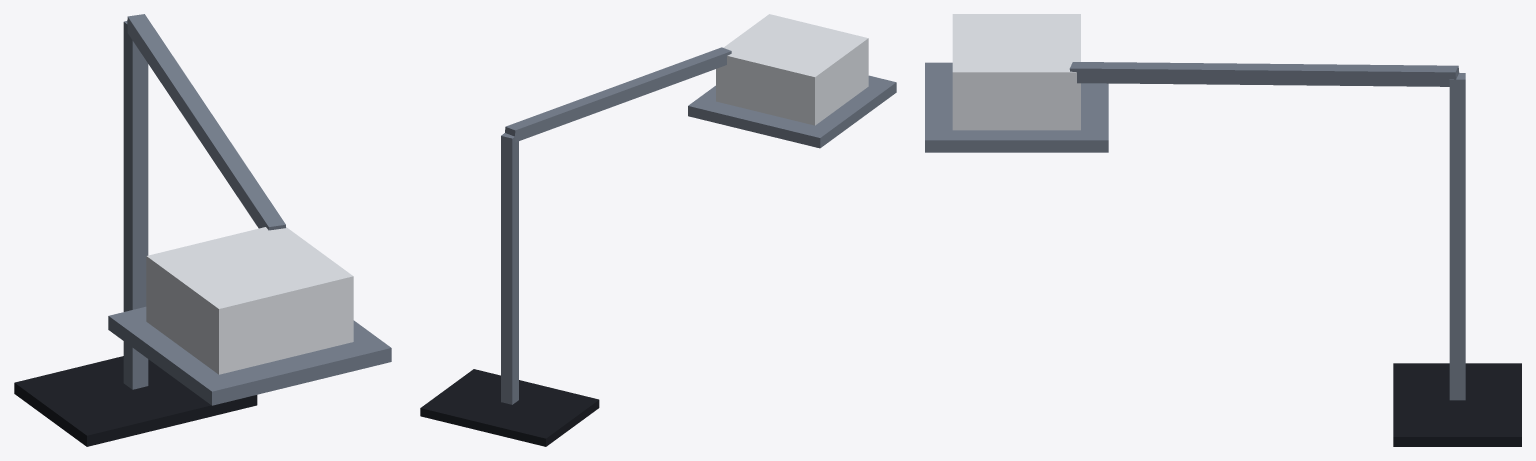
The model's file is Inst_Radar.glb.
3 renders of one model, left to right at view 1: azimuth 30°, elevation 25°; view 2: azimuth 150°, elevation 25°; view 3: azimuth 270°, elevation 25°, orthographic. The views are drawn at different scales.
Visible parts, largest first — view 1: Inst_Radar; view 2: Inst_Radar; view 3: Inst_Radar.
Part boxes in pixels (x1=…): Inst_Radar: x1=14, y1=14, x2=391, y2=446; Inst_Radar: x1=420, y1=14, x2=896, y2=446; Inst_Radar: x1=925, y1=14, x2=1521, y2=446.
Bounding box in the file's own units: 0.69 × 0.8204 × 1.3.
